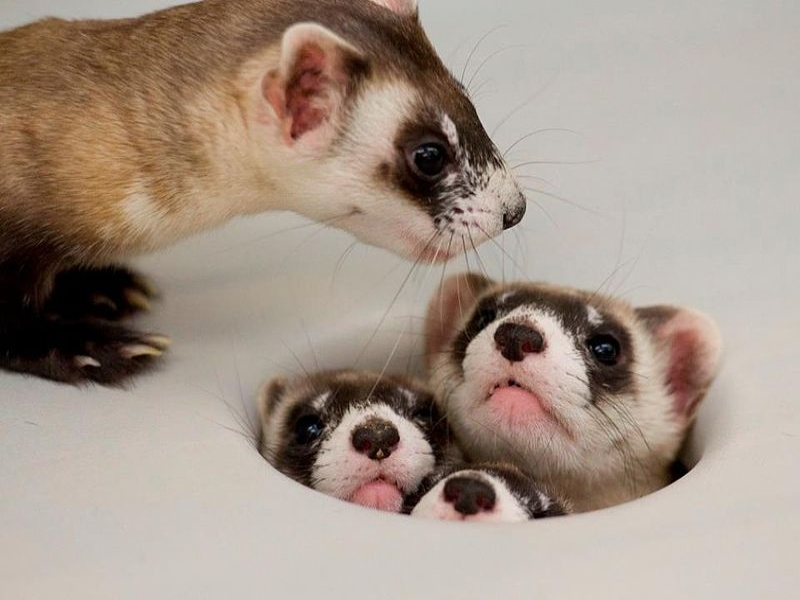minkish: (1, 4, 529, 399), (429, 279, 730, 487), (267, 359, 448, 513), (403, 456, 574, 543)
